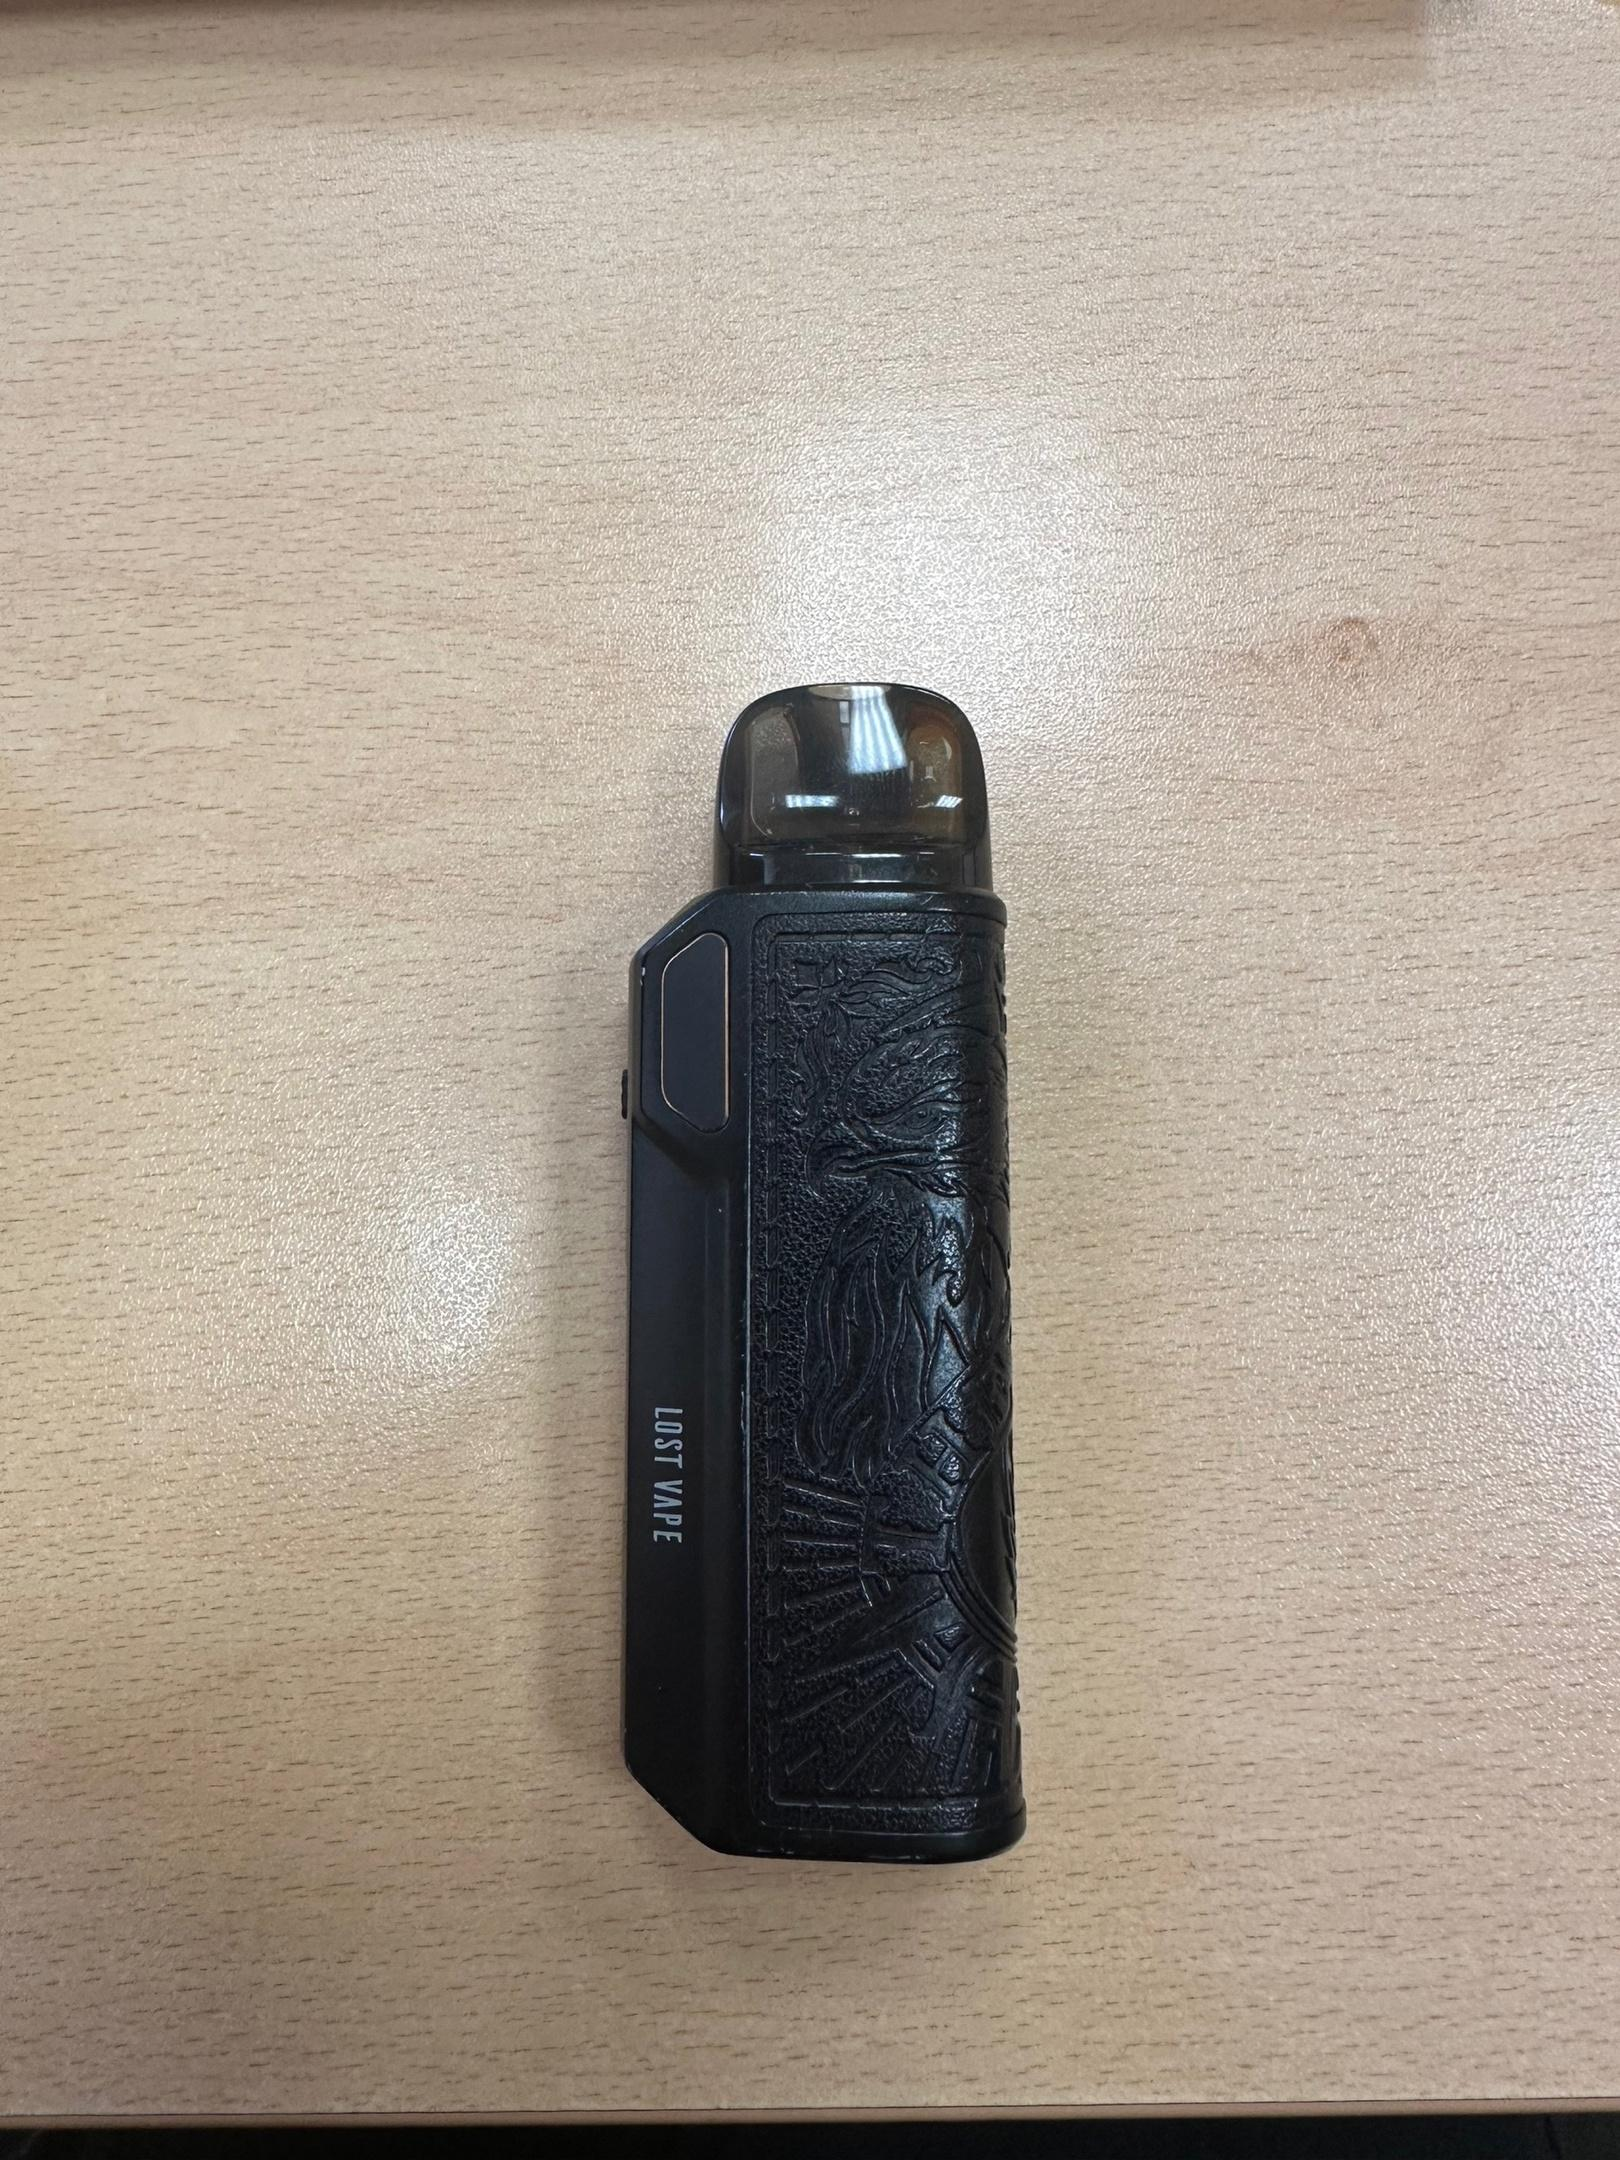Vape: (621, 682, 1024, 1861)
